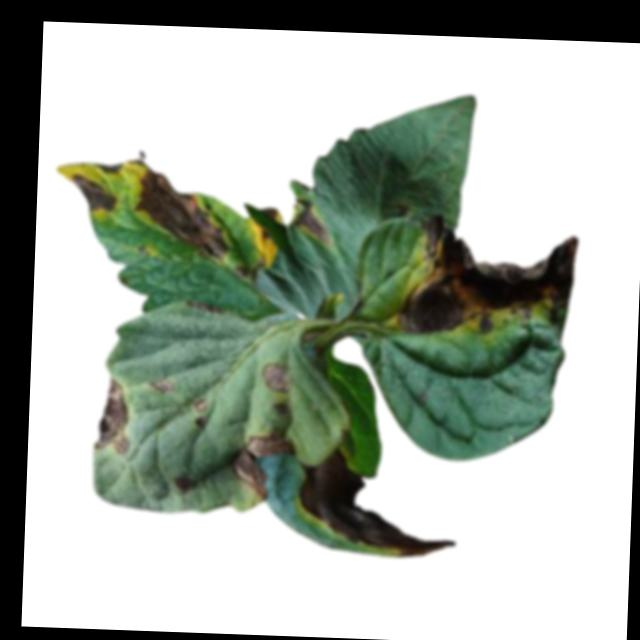Early_blight: (394, 212, 580, 340), (302, 444, 460, 559), (129, 164, 229, 260), (228, 425, 299, 499), (92, 375, 131, 453), (69, 172, 119, 215), (294, 198, 333, 243), (261, 360, 290, 393), (253, 205, 279, 240), (188, 297, 221, 315), (95, 161, 123, 175), (148, 378, 172, 392), (190, 397, 208, 412), (172, 476, 191, 490)
